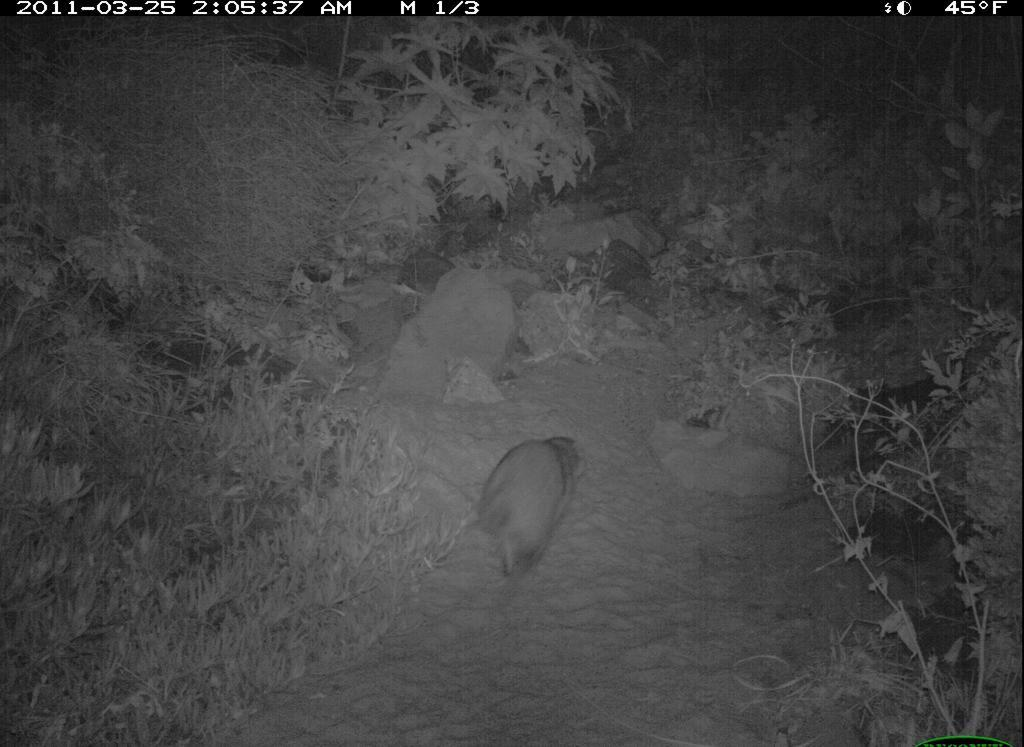raccoon: (474, 419, 588, 591)
